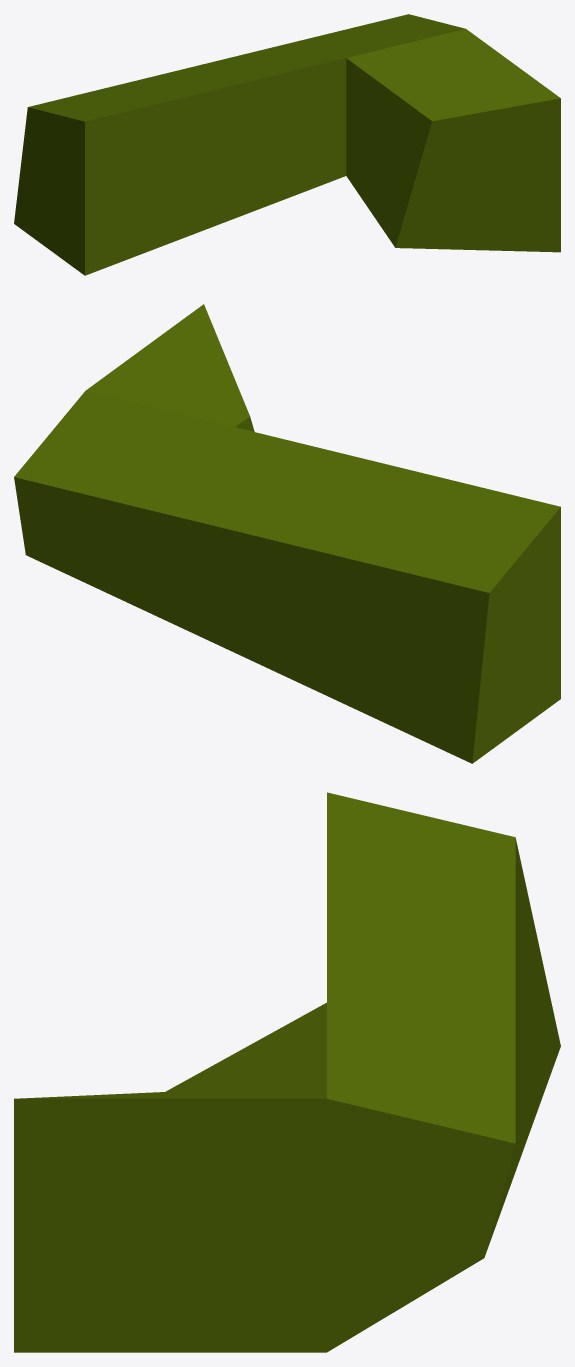
The model's file is tank_destroyed_1.glb.
The picture shows the model from 3 angles, top to bottom: view 1: azimuth 30°, elevation 25°; view 2: azimuth 150°, elevation 25°; view 3: azimuth 270°, elevation 25°; orthographic projection. The views are drawn at different scales.
Visible parts, largest first — view 1: tank_destroyed_1; view 2: tank_destroyed_1; view 3: tank_destroyed_1.
Part boxes in pixels (box(x1,y1,x2,y2)): tank_destroyed_1: box(14, 14, 560, 275); tank_destroyed_1: box(14, 304, 560, 763); tank_destroyed_1: box(14, 792, 560, 1352).
Size of the model in its own units: 0.5561 by 0.2149 by 0.4196.
1 material, 1 textured.
